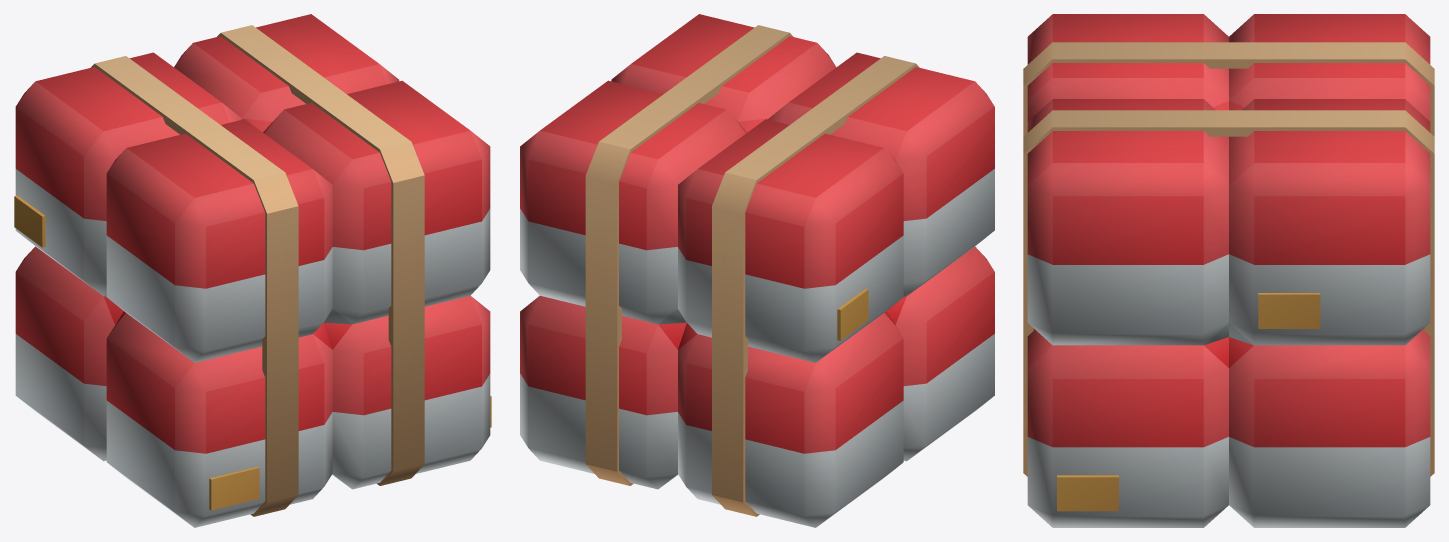
Rendered from cargo_a_stacked.glb.
3 renders of one model, left to right at view 1: azimuth 30°, elevation 25°; view 2: azimuth 150°, elevation 25°; view 3: azimuth 270°, elevation 25°, orthographic. The views are drawn at different scales.
Parts seen in each view (by area): view 1: cargo_A_stacked; view 2: cargo_A_stacked; view 3: cargo_A_stacked.
Part boxes in pixels (<box>): cargo_A_stacked: <box>14,14,491,527</box>; cargo_A_stacked: <box>520,14,994,527</box>; cargo_A_stacked: <box>1023,14,1434,527</box>.
Bounding box in the file's own units: 1.02 × 1.02 × 1.02.
1 material, 1 textured.
